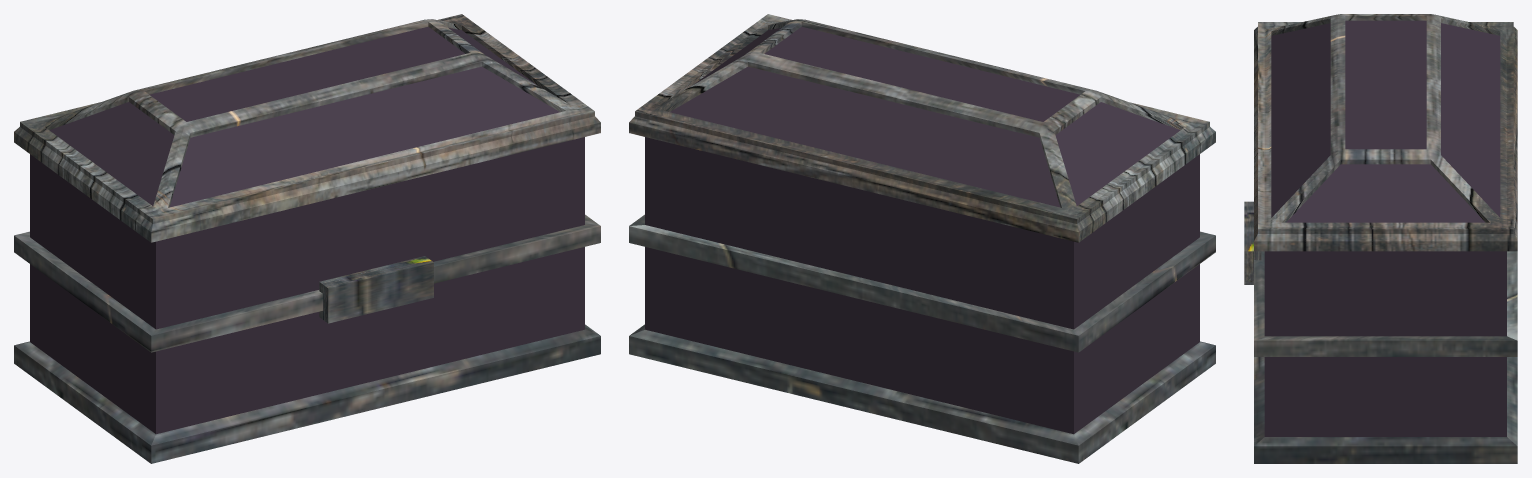
The model's file is BauTI.fbx.
3 views of the same model, side by side, from view 1: azimuth 30°, elevation 25°; view 2: azimuth 150°, elevation 25°; view 3: azimuth 270°, elevation 25° (orthographic). The views are drawn at different scales.
Visible parts, largest first — view 1: Bau; view 2: Bau; view 3: Bau.
Boxes of the visible parts, left/top/right/bottom form: Bau: left=14, top=14, right=600, bottom=463; Bau: left=629, top=14, right=1215, bottom=463; Bau: left=1244, top=14, right=1517, bottom=463.
Size of the model in its own units: 77.48 by 47.23 by 42.45.
